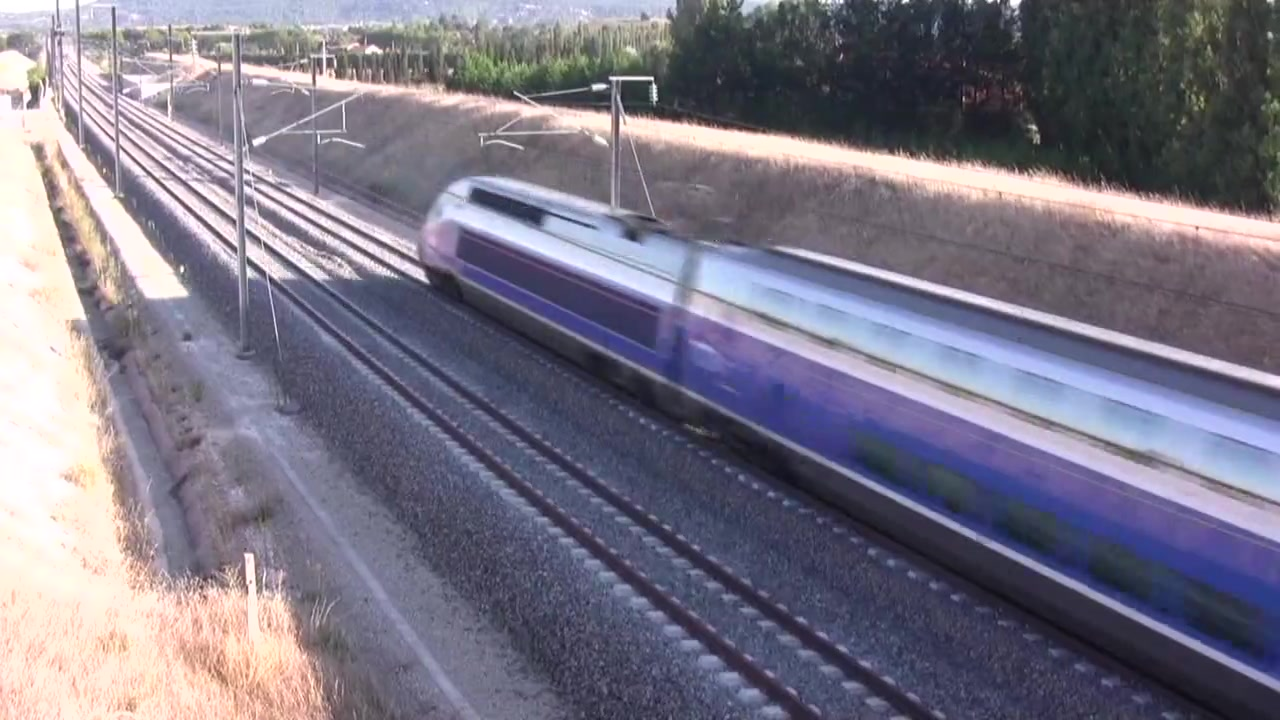train: (416, 175, 1280, 720)
